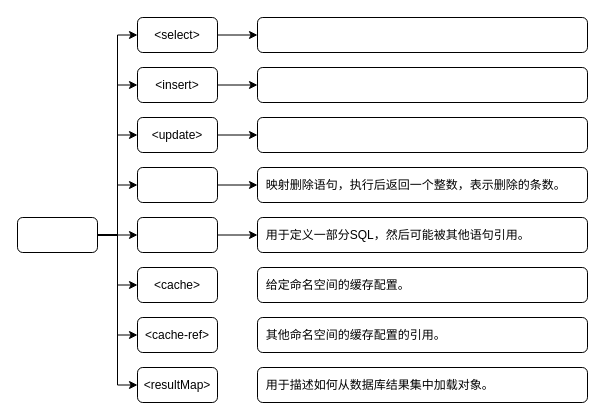
Some shapes in this 605 by 420 pixel diagram are drawn without their labels. Here are the shapes that lost their labels. From the top down, the box of each, then its label:
(256, 16, 588, 52): 映射查询语句，可以自定义参数、返回结果集等。
(256, 66, 588, 102): 映射插入语句，执行后返回一个整数，表示插入的条数。
(256, 116, 588, 152): 映射更新语句，执行后返回一个整数，表示更新的条数。
(136, 166, 218, 202): <delete>
(16, 216, 98, 252): <mapper>
(136, 216, 218, 252): <sql>
